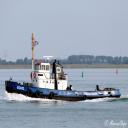tugboat: (6, 33, 124, 104)
